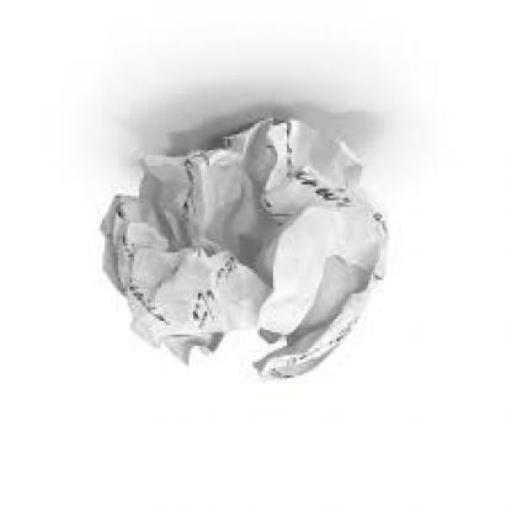paper: (100, 118, 394, 384)
